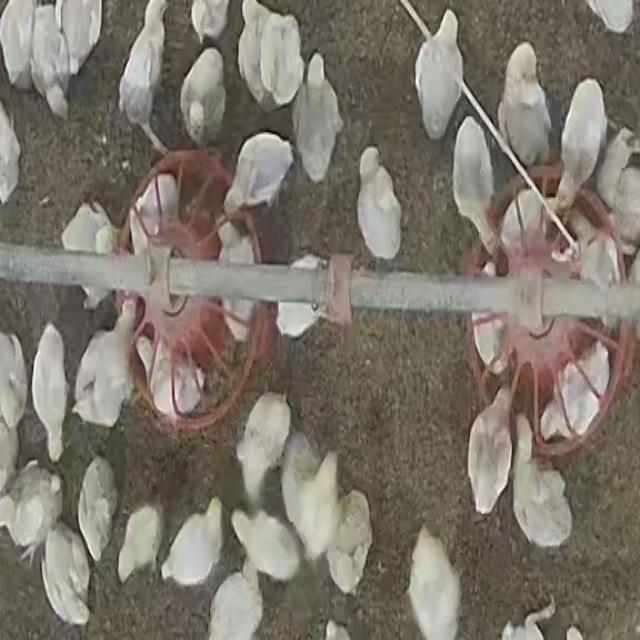chicken: (72, 304, 138, 432), (118, 0, 172, 156), (510, 416, 570, 550), (290, 48, 348, 185), (411, 1, 467, 140), (553, 78, 607, 220), (404, 521, 468, 640), (463, 381, 515, 519), (538, 338, 606, 443), (219, 126, 295, 219), (497, 44, 553, 170), (452, 118, 501, 260), (158, 492, 226, 592), (234, 395, 292, 509), (285, 446, 342, 561), (353, 141, 405, 265), (136, 333, 208, 421), (229, 501, 305, 583), (30, 321, 71, 462), (215, 221, 261, 346), (5, 461, 64, 557), (177, 45, 230, 148), (324, 489, 374, 595), (42, 524, 92, 624), (29, 3, 72, 118), (273, 254, 330, 340), (257, 8, 304, 112), (111, 500, 167, 586), (76, 456, 119, 565), (472, 264, 512, 379), (130, 171, 178, 258), (205, 570, 264, 638), (58, 1, 104, 81), (0, 3, 38, 93), (0, 330, 29, 434)
